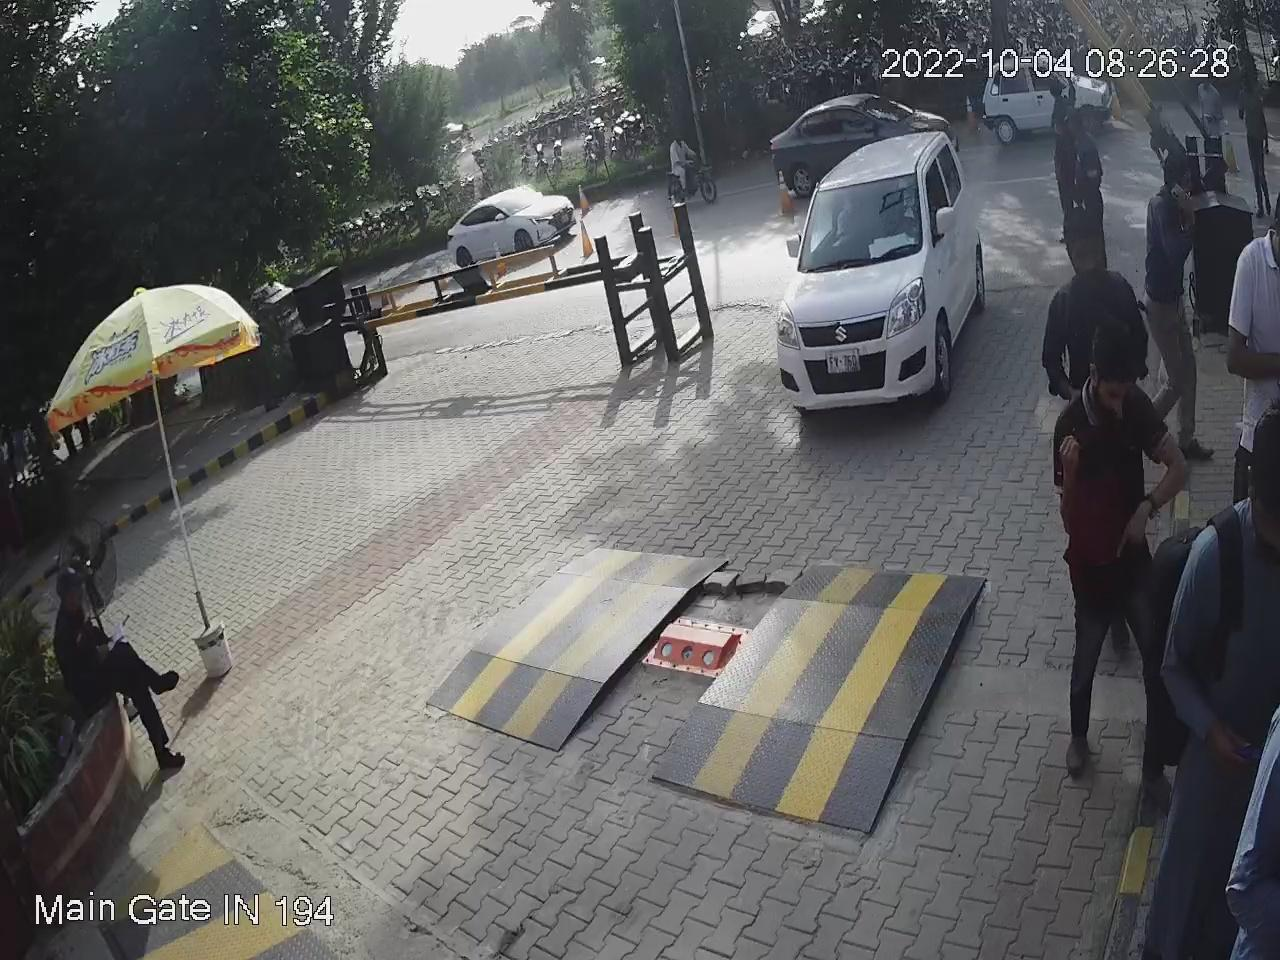windshield: (798, 170, 920, 270)
